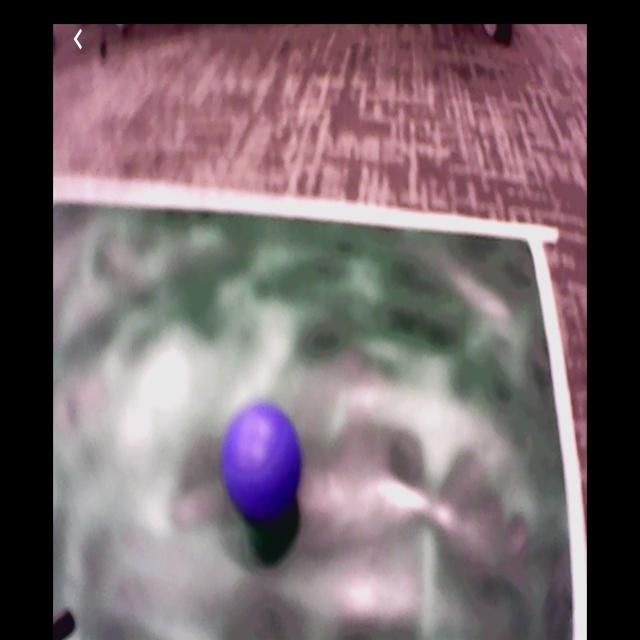ball: (225, 404, 303, 521)
